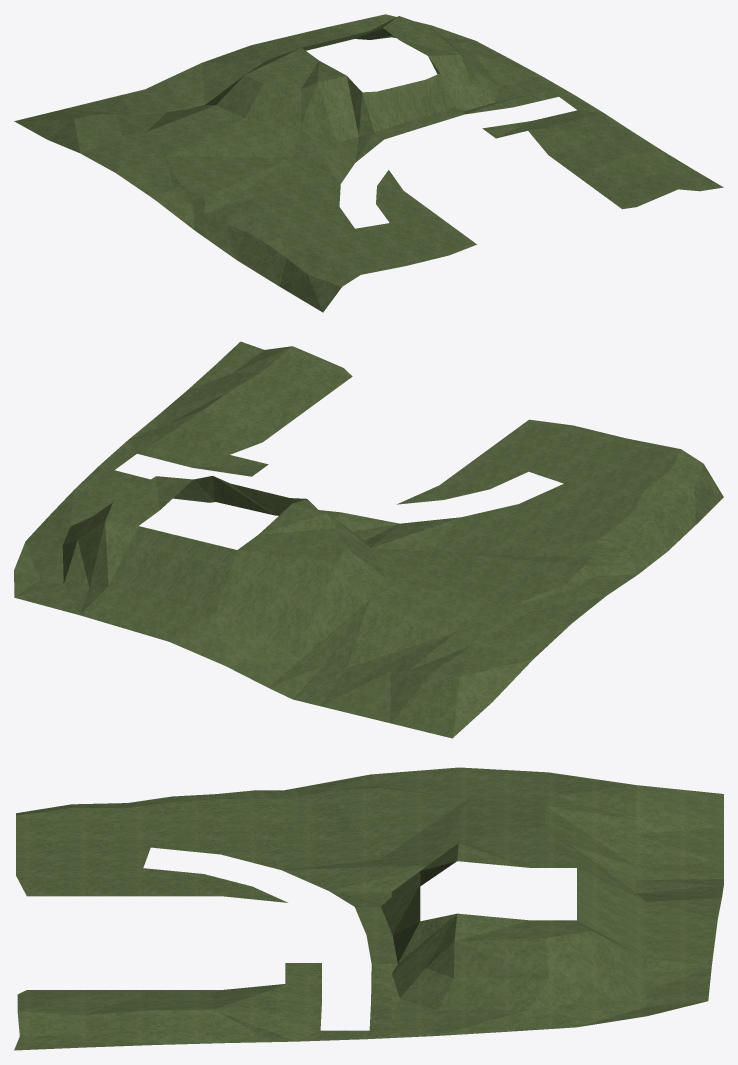
Rendered from sfseland01.obj.
The picture shows the model from 3 angles, top to bottom: view 1: azimuth 30°, elevation 25°; view 2: azimuth 150°, elevation 25°; view 3: azimuth 270°, elevation 25°; orthographic projection. The views are drawn at different scales.
Visible parts, largest first — view 1: sfseland01; view 2: sfseland01; view 3: sfseland01.
Part boxes in pixels (x1,y1,x2,y2): sfseland01: [14, 14, 723, 312]; sfseland01: [14, 341, 723, 738]; sfseland01: [14, 767, 723, 1050].
Size of the model in its own units: 154 by 23.21 by 162.
Materials: 1 (1 with a texture image).
